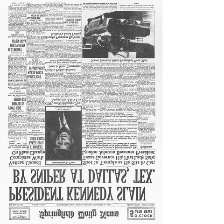news_paper: (0, 0, 161, 224)
